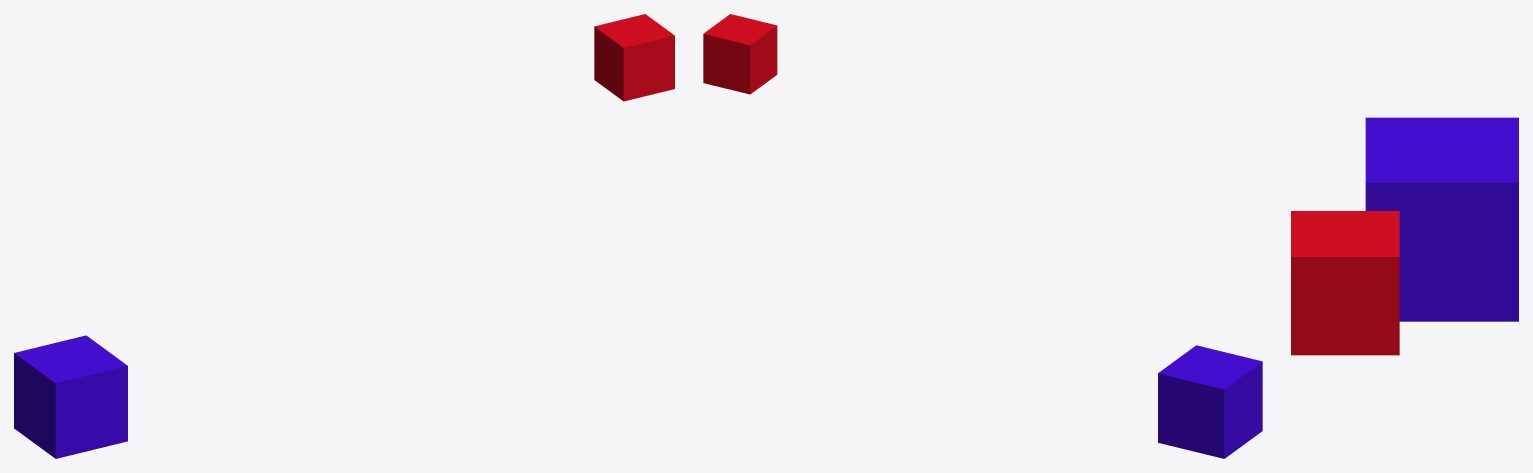
3 views of the same model, side by side, from view 1: azimuth 30°, elevation 25°; view 2: azimuth 150°, elevation 25°; view 3: azimuth 270°, elevation 25° (orthographic). The views are drawn at different scales.
Parts seen in each view (by area): view 1: Cube.001, Cube; view 2: Cube.001, Cube; view 3: Cube.001, Cube.
Boxes of the visible parts, box(x1,y1,x2,y2) form: Cube.001: box(14, 335, 127, 458); Cube: box(594, 14, 674, 101); Cube.001: box(1158, 345, 1262, 458); Cube: box(703, 14, 777, 94); Cube.001: box(1365, 117, 1518, 321); Cube: box(1291, 211, 1399, 355).
Size of the model in its own units: 0.6918 by 0.3225 by 0.1239.
